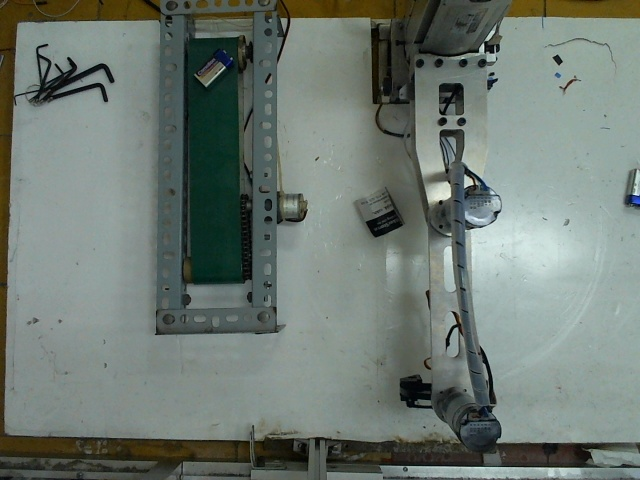battery: (190, 49, 235, 87)
